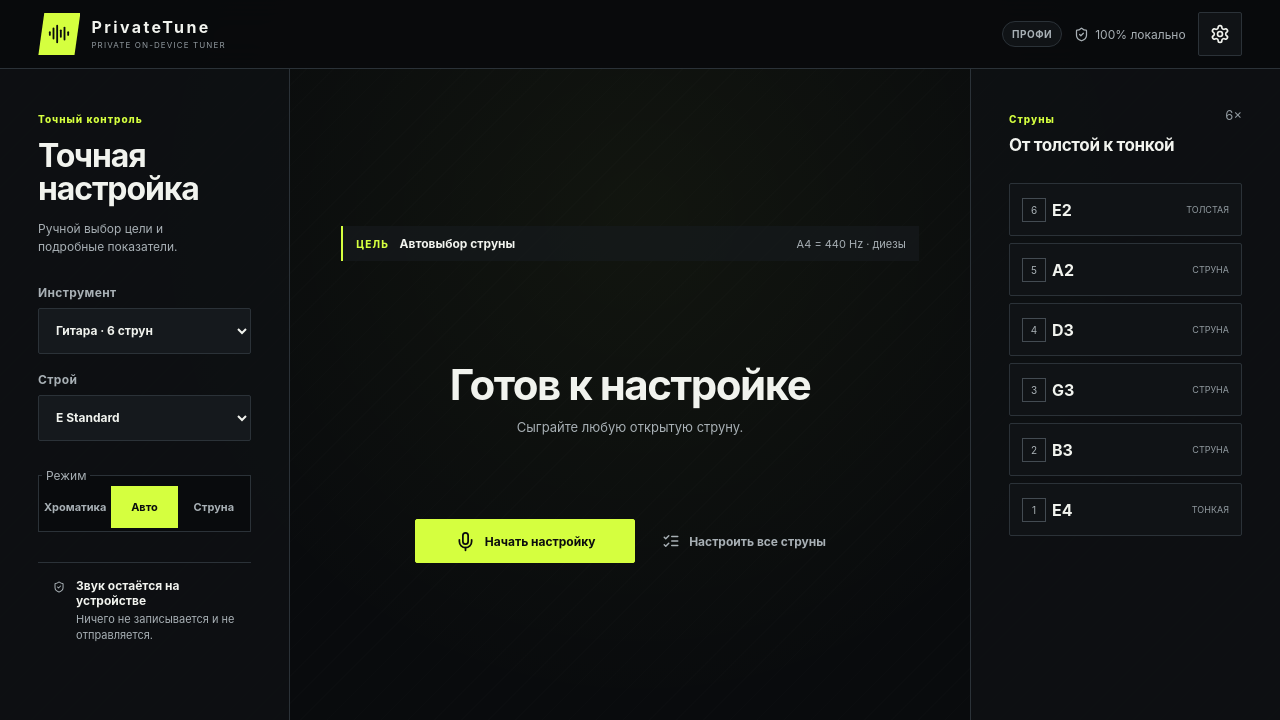
Test: App flows › selects an instrument, tuning, mode and guided string
Step 1. Select "Бас · 5 струн" in the dropdown labelled "Инструмент" → (144, 331), box [38,308,251,354]
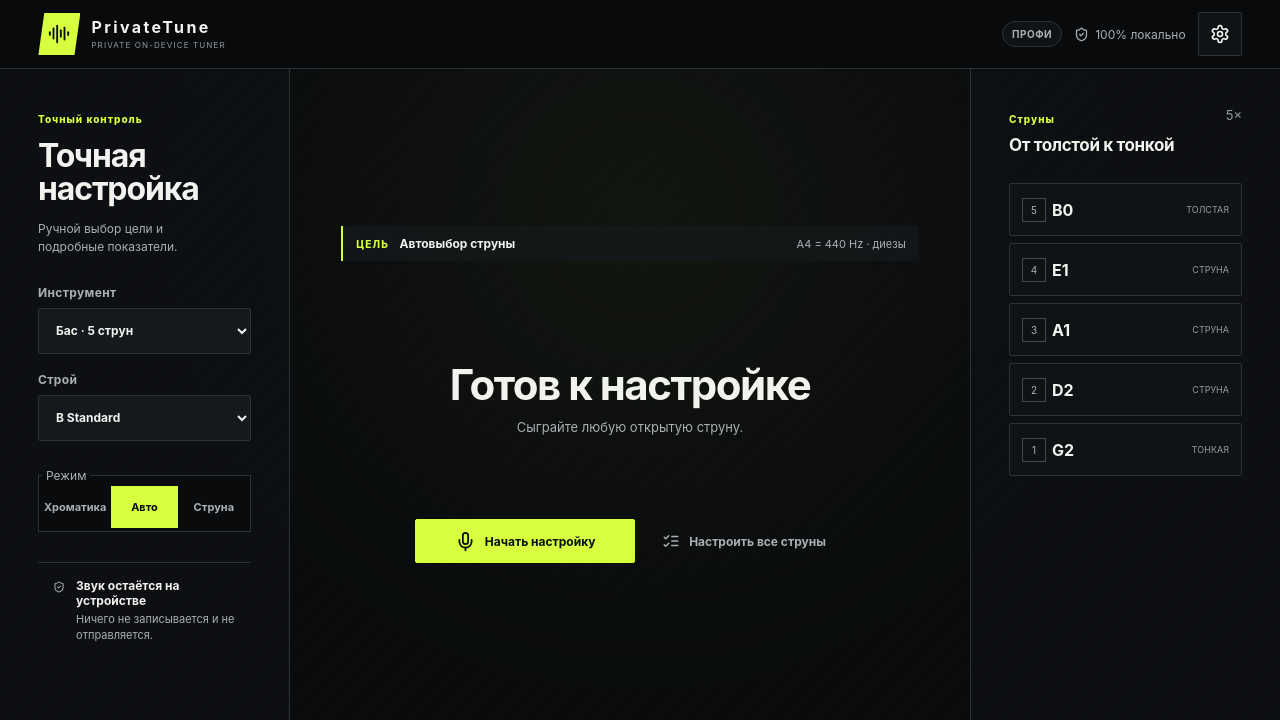
Step 2. Select "Drop A" in the dropdown labelled "Строй" → (144, 418), box [38,395,251,441]
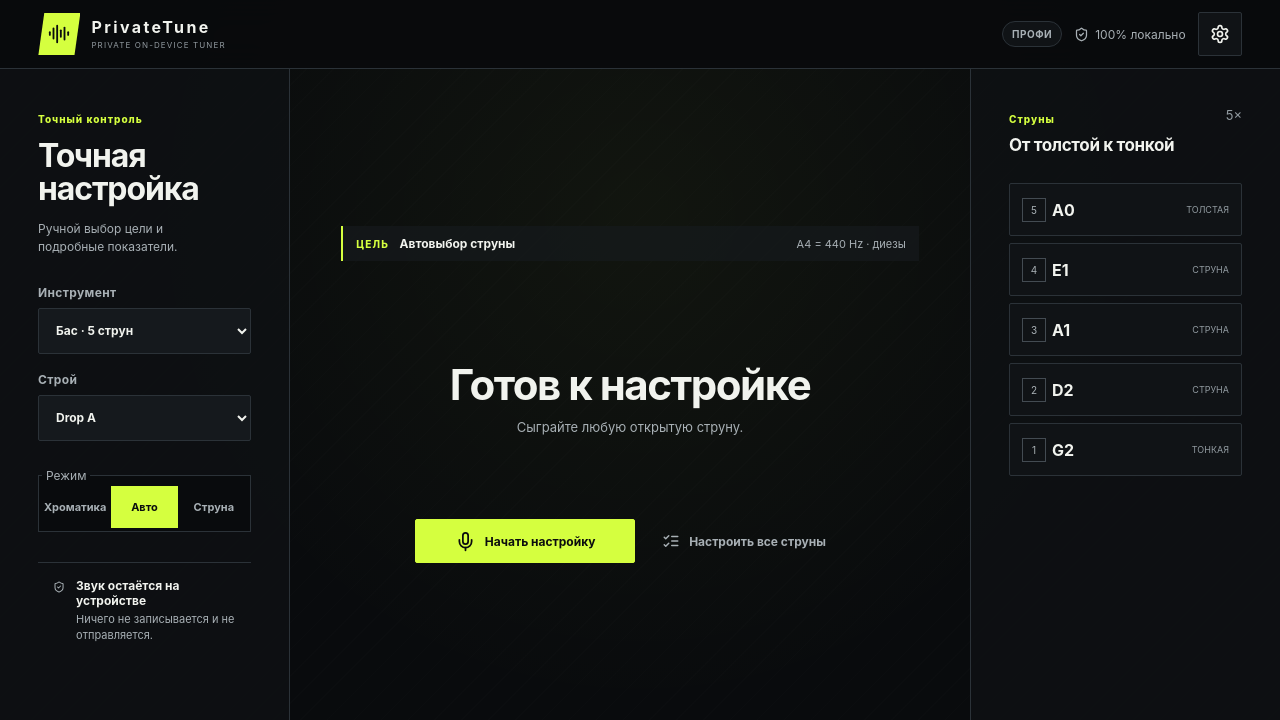
Step 3. Click the button with class "string-button" showing "3 A1 струна" → (1126, 330), box [1009,303,1242,356]
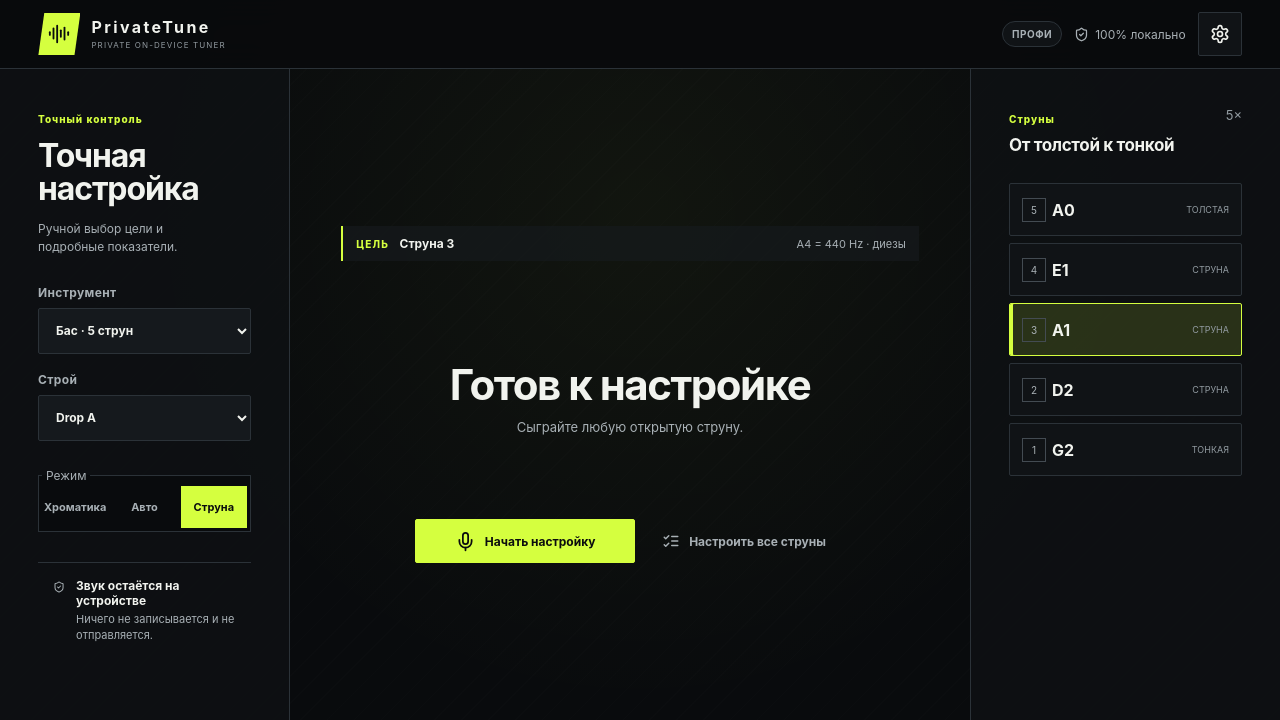
Expected: the radio button labelled "Струна" is checked, [181,486,247,528]
